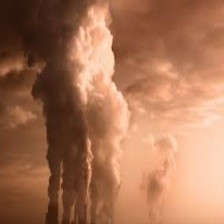smoke: (38, 2, 125, 198), (142, 132, 187, 219)
